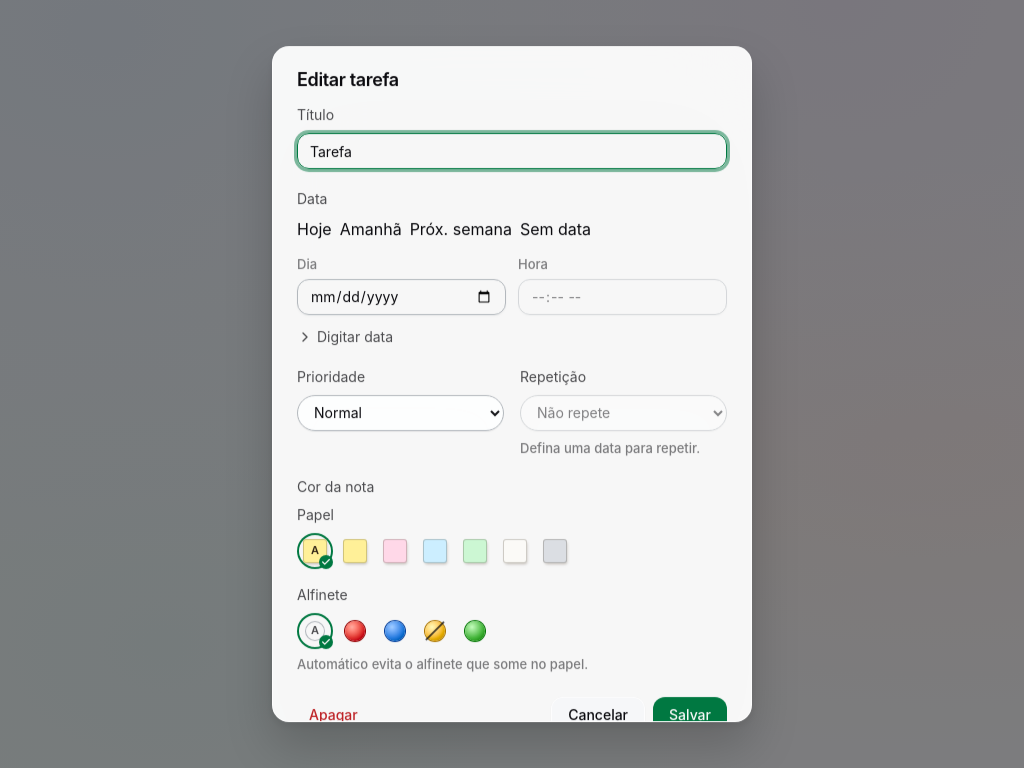
Test: TaskFormModal › mostra o erro devolvido pela API sem fechar o formulário
Click the button "Salvar".
click(690, 715)  # box [653,697,727,733]
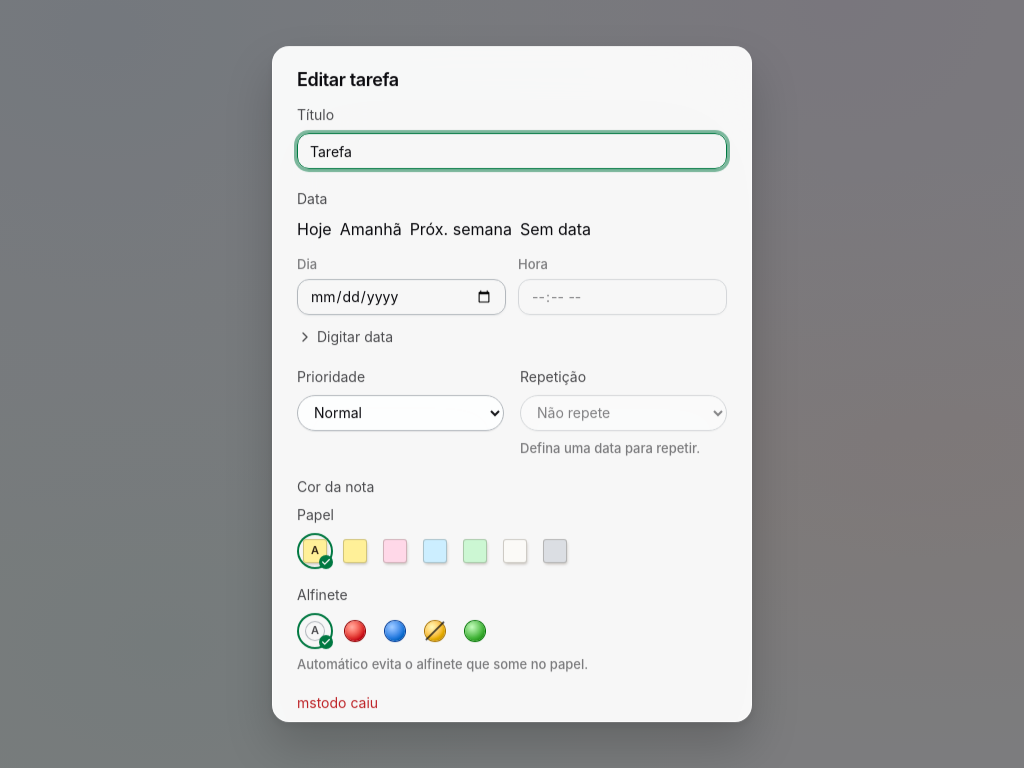
Result: the message reads "mstodo caiu" at [297,694,378,711]
